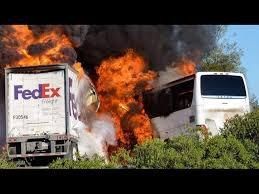fire: (80, 47, 162, 146), (1, 21, 78, 65), (174, 53, 201, 77)
